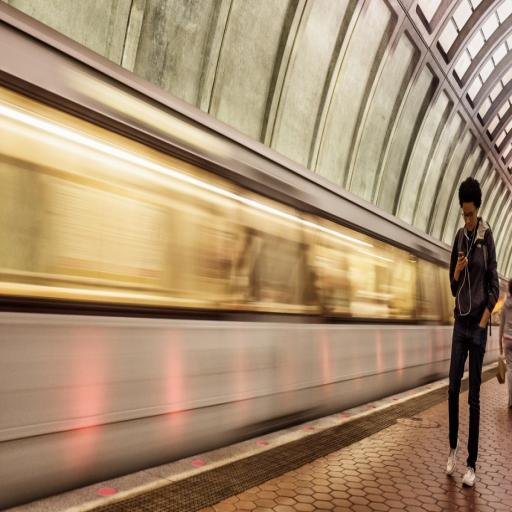platform_edge: (0, 382, 377, 512)
